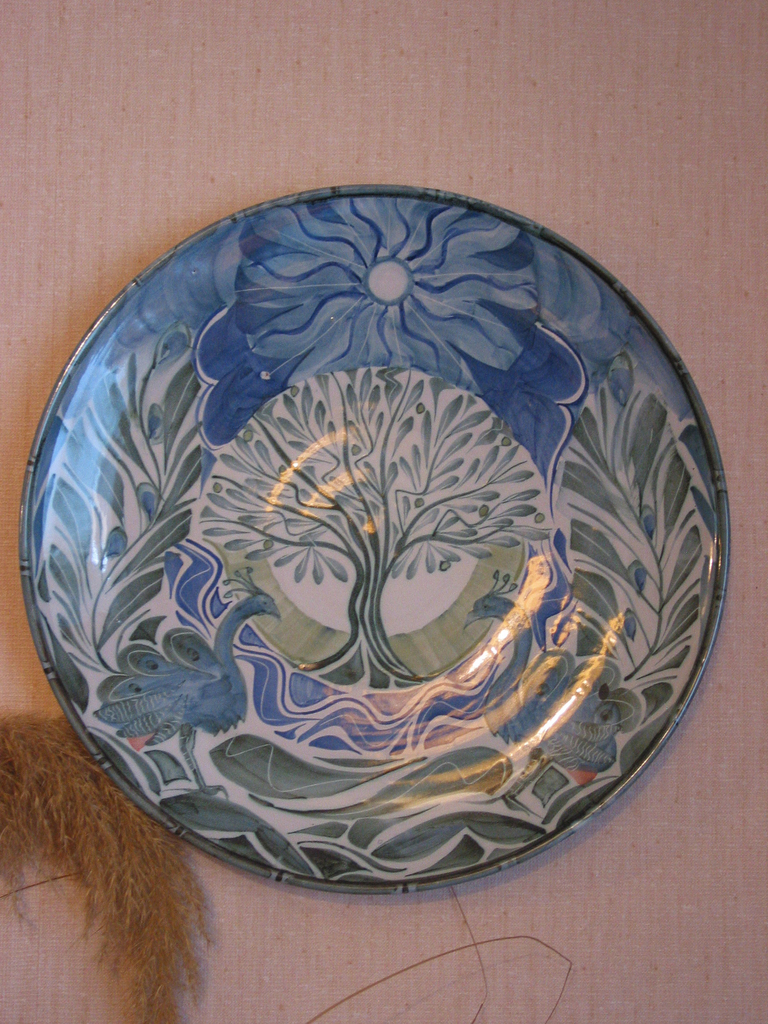plate: (19, 186, 727, 895)
